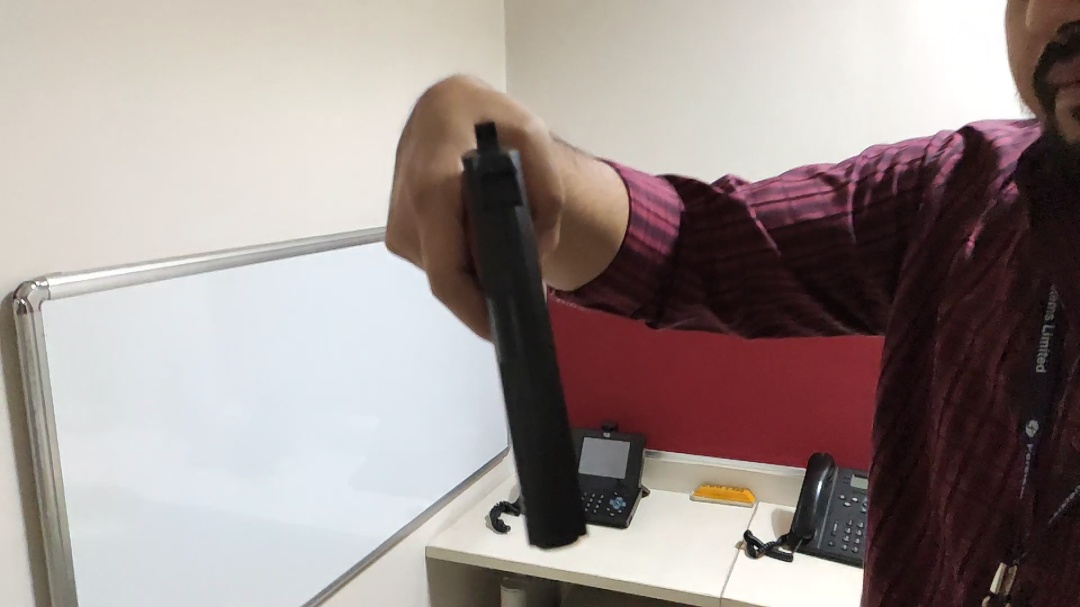gun: (432, 112, 637, 551)
